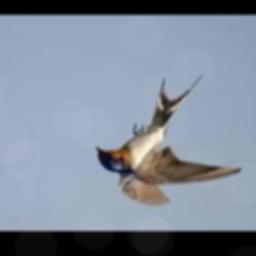Swallow: (96, 73, 242, 206)
